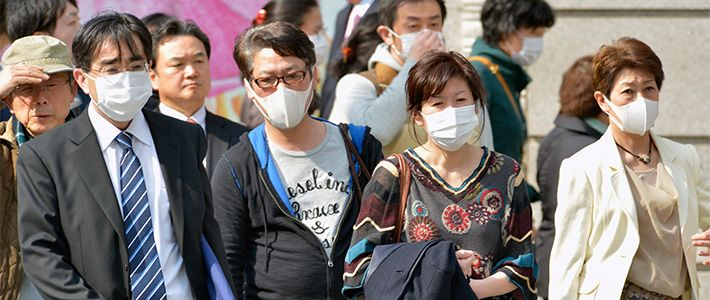mask: (90, 74, 152, 123), (425, 109, 478, 154), (257, 89, 312, 128), (612, 101, 660, 137)
